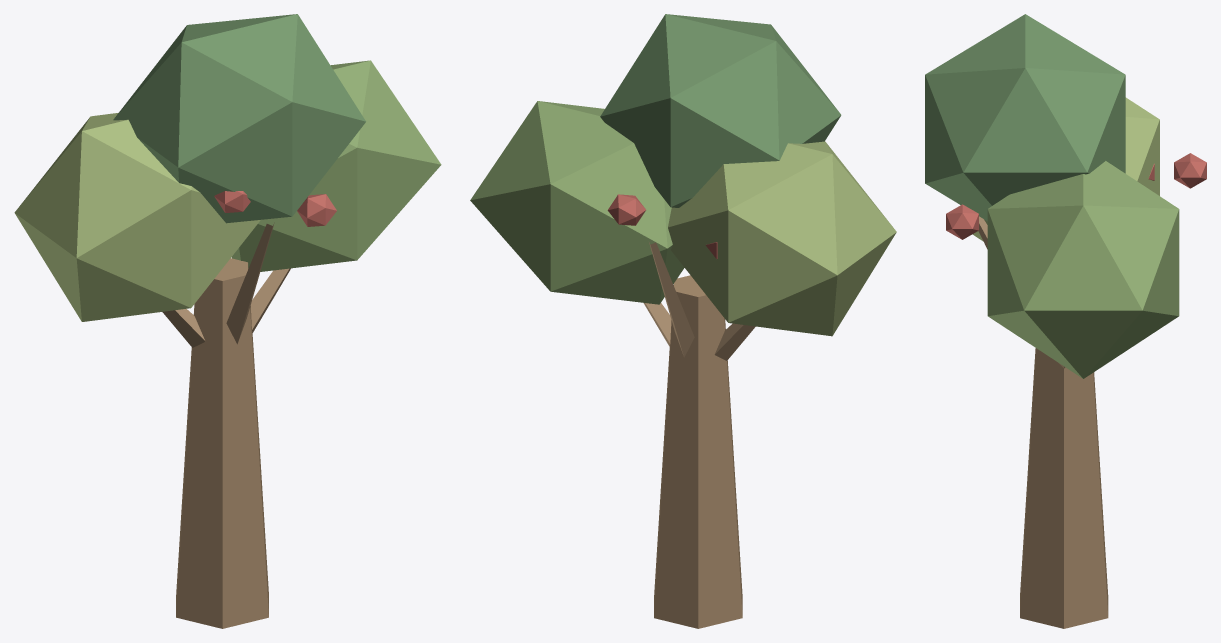
The picture shows the model from 3 angles, left to right: view 1: azimuth 30°, elevation 25°; view 2: azimuth 150°, elevation 25°; view 3: azimuth 270°, elevation 25°; orthographic projection. The views are drawn at different scales.
Visible parts, largest first — view 1: Body; view 2: Body; view 3: Body.
Part boxes in pixels (<box>): Body: <box>14,14,441,628</box>; Body: <box>470,14,896,628</box>; Body: <box>925,14,1206,628</box>.
Size of the model in its own units: 2.34 by 3.54 by 1.6.
